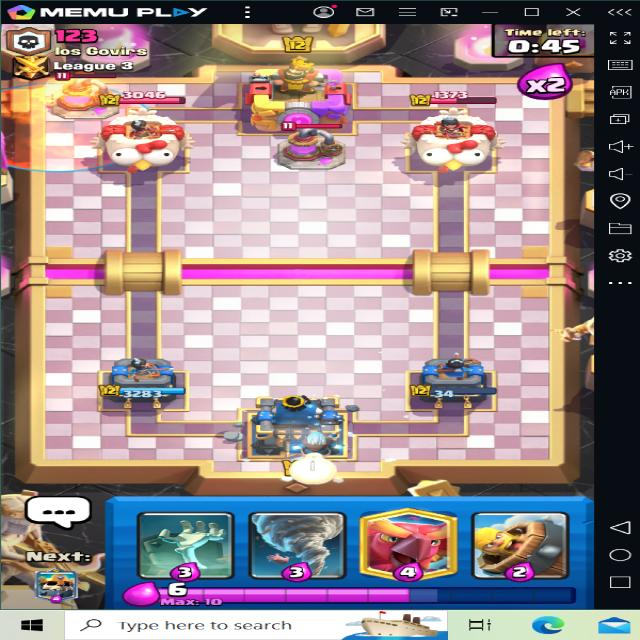elixir-collector: (256, 117, 354, 172), (52, 80, 112, 122)
